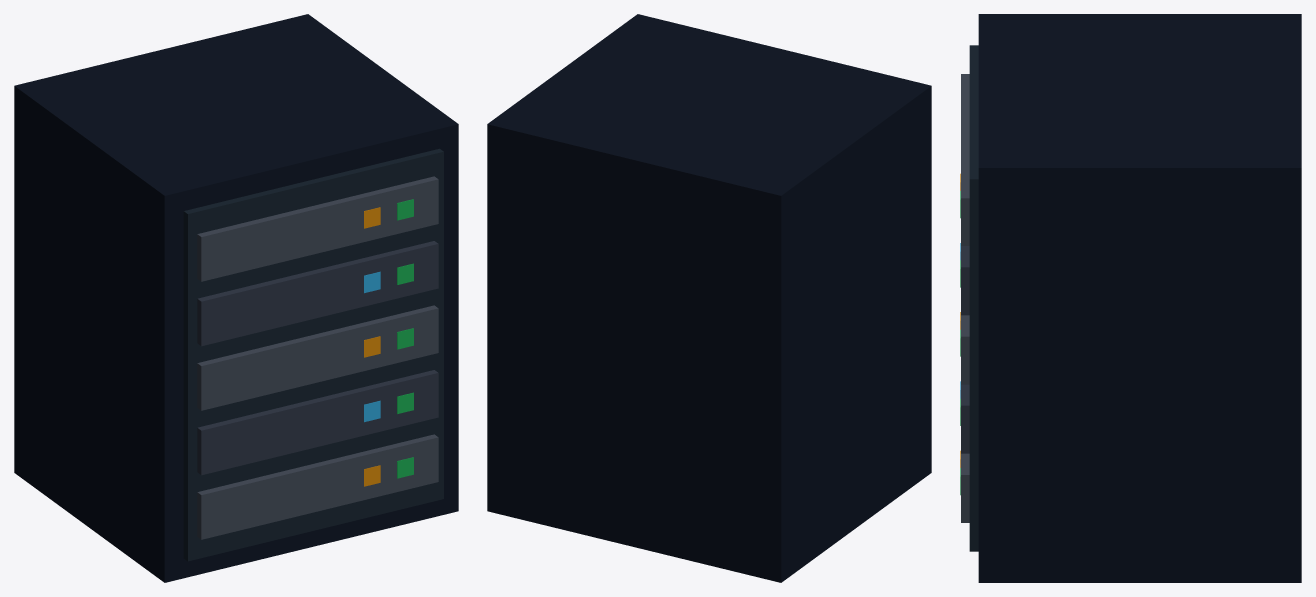
Rendered from rack.glb.
The picture shows the model from 3 angles, left to right: view 1: azimuth 30°, elevation 25°; view 2: azimuth 150°, elevation 25°; view 3: azimuth 270°, elevation 25°; orthographic projection. The views are drawn at different scales.
Bounding box in the file's own units: 0.62 × 0.78 × 0.581.
